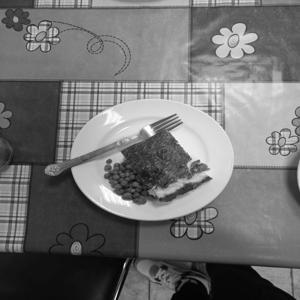casserole: (98, 119, 208, 212)
